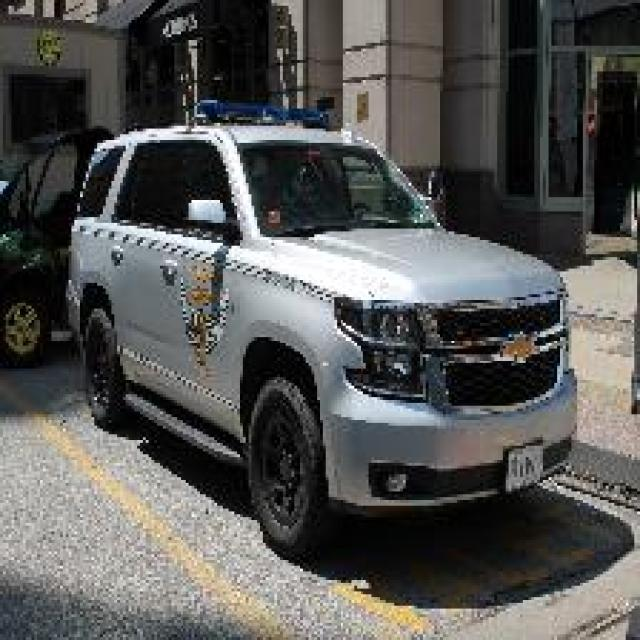Police-car: (63, 100, 580, 557)
